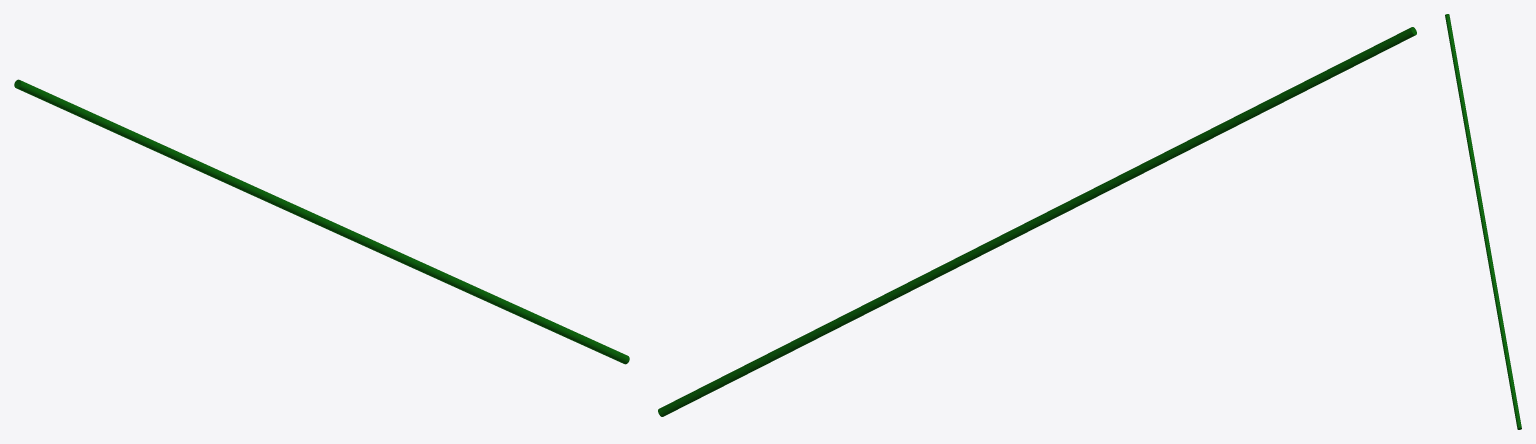
File: Event_192787598_jet_0.fbx
3 views of the same model, side by side, from view 1: azimuth 30°, elevation 25°; view 2: azimuth 150°, elevation 25°; view 3: azimuth 270°, elevation 25° (orthographic). The views are drawn at different scales.
Visible parts, largest first — view 1: Model; view 2: Model; view 3: Model.
Part boxes in pixels (x1=…): Model: x1=14, y1=79, x2=629, y2=364; Model: x1=658, y1=27, x2=1416, y2=416; Model: x1=1445, y1=14, x2=1521, y2=429.
Bounding box in the file's own units: 3.48 × 2.43 × 0.6759.
